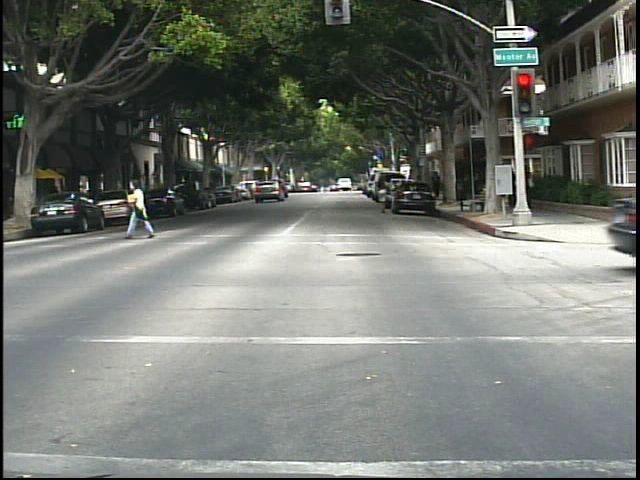person: (122, 173, 157, 242), (373, 174, 392, 216), (434, 168, 442, 201)
